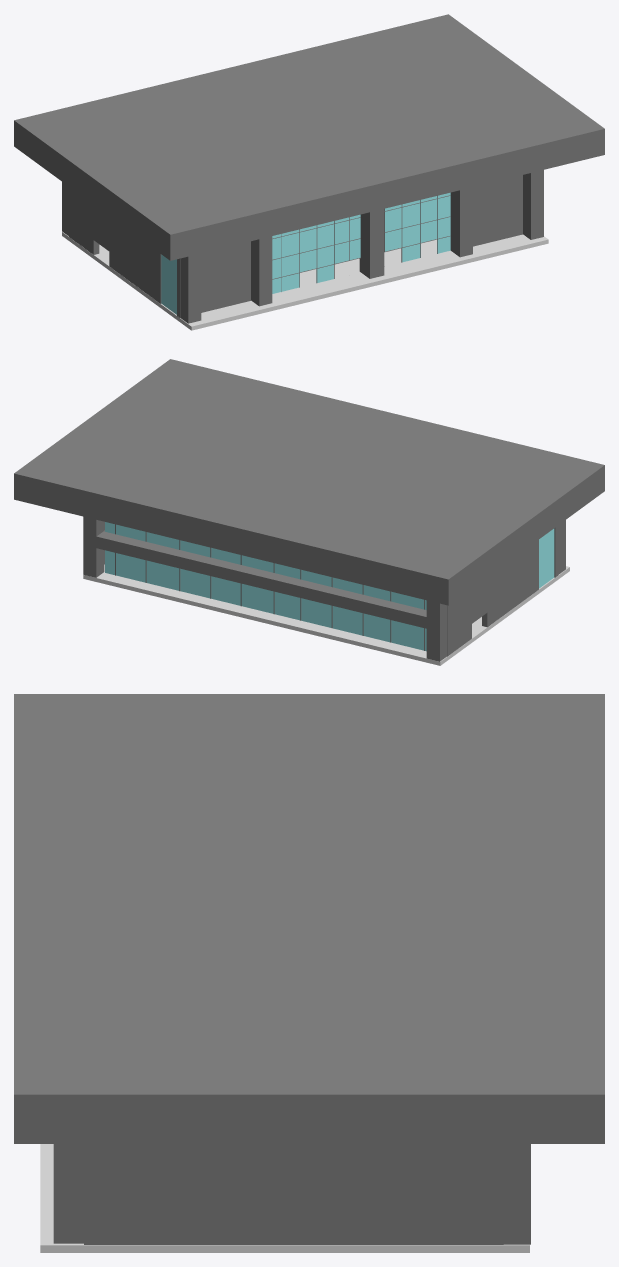
File: edifCulturales.fbx
3 views of the same model, one above another, from view 1: azimuth 30°, elevation 25°; view 2: azimuth 150°, elevation 25°; view 3: azimuth 270°, elevation 25° (orthographic). The views are drawn at different scales.
Visible parts, largest first — view 1: Cubo.005, Cube.002, Cubo.006, Cube.004, Cube, Cube.005, Cubo.002, Cubo, Cubo.001, Cubo.004, Cubo.003, Cubo.010; view 2: Cubo.005, Cubo.007, Cube.003, Cubo.006, Cube, Cubo.008, Cubo.009, Cubo.010; view 3: Cubo.005, Cube.001, Cubo.006, Cubo.004, Cubo.009, Cube.002.
Part boxes in pixels (box(x1,y1,x2,y2)): Cubo.005: box(14, 14, 604, 260); Cube.002: box(177, 175, 522, 317); Cubo.006: box(62, 231, 548, 330); Cube.004: box(272, 214, 360, 293); Cube: box(69, 187, 161, 303); Cube.005: box(385, 192, 450, 262); Cubo.002: box(359, 209, 384, 278); Cubo: box(180, 253, 201, 323); Cubo.001: box(251, 236, 272, 306); Cubo.004: box(523, 170, 543, 239); Cubo.003: box(452, 187, 472, 257); Cubo.010: box(161, 254, 176, 314); Cubo.005: box(14, 359, 604, 605); Cubo.007: box(105, 522, 426, 651); Cube.003: box(96, 524, 426, 650); Cubo.006: box(83, 564, 569, 665); Cube: box(447, 540, 538, 656); Cubo.008: box(426, 600, 446, 661); Cubo.009: box(83, 516, 104, 577); Cubo.010: box(539, 528, 554, 588); Cubo.005: box(14, 694, 604, 1143); Cube.001: box(95, 1144, 503, 1244); Cubo.006: box(40, 1144, 529, 1252); Cubo.004: box(53, 1144, 83, 1243); Cubo.009: box(503, 1144, 530, 1244); Cube.002: box(84, 1144, 95, 1244).
Bounding box in the file's own units: 3260 × 773 × 2032.
